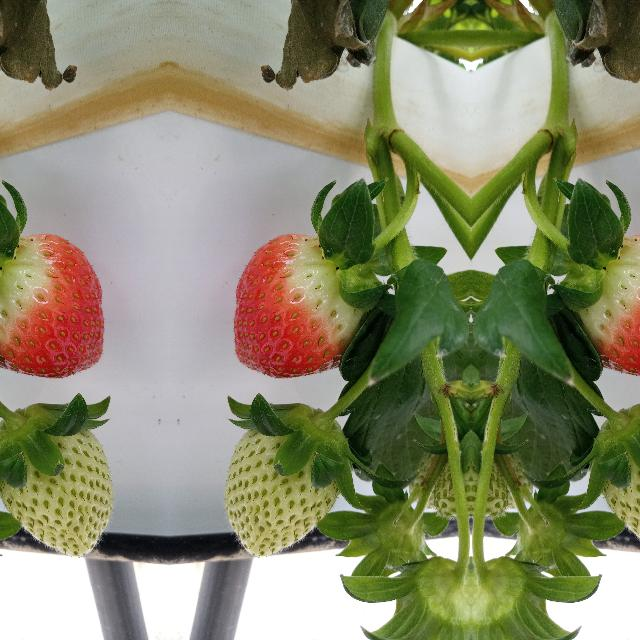Health_100: (231, 232, 365, 378), (0, 232, 105, 378), (576, 232, 640, 378)
Health_25: (225, 394, 333, 556), (3, 394, 111, 556), (608, 394, 640, 556)
